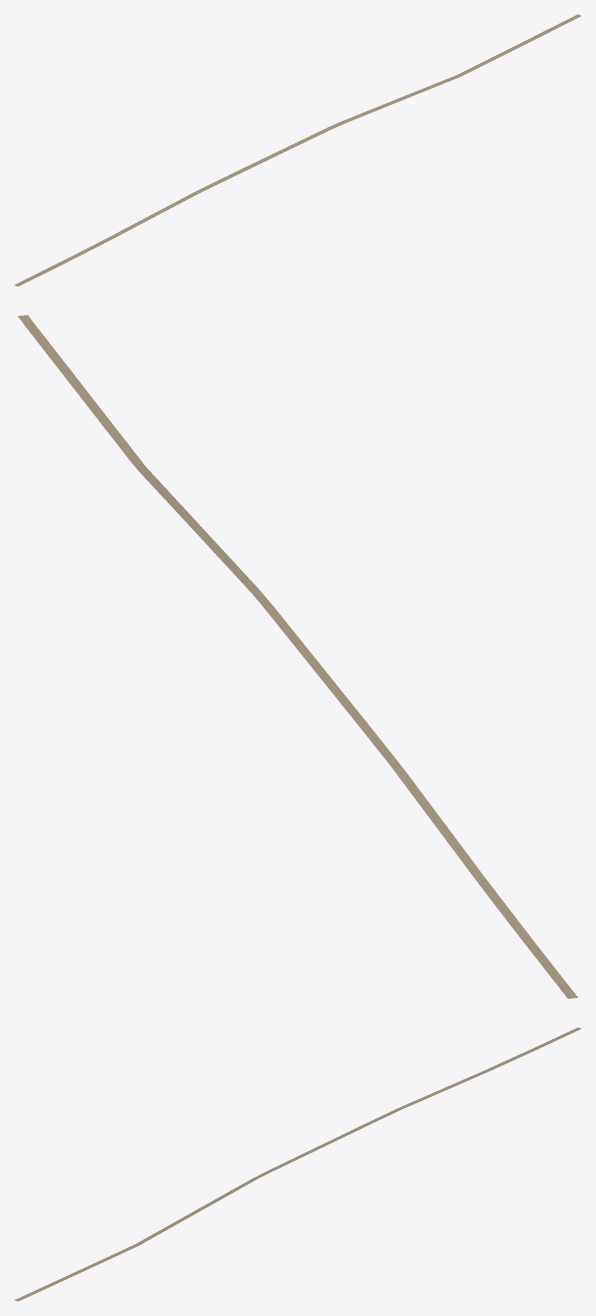
File: farm_-3_12_track.glb
3 views of the same model, one above another, from view 1: azimuth 90°, elevation 25°; view 2: azimuth 150°, elevation 25°; view 3: azimuth 270°, elevation 25° (orthographic). The views are drawn at different scales.
Visible parts, largest first — view 1: geometry_0; view 2: geometry_0; view 3: geometry_0.
Boxes of the visible parts, box(x1,y1,x2,y2) form: geometry_0: box(14, 14, 581, 286); geometry_0: box(18, 315, 577, 998); geometry_0: box(14, 1027, 581, 1301).
Size of the model in its own units: 390 by 6.65 by 343.
